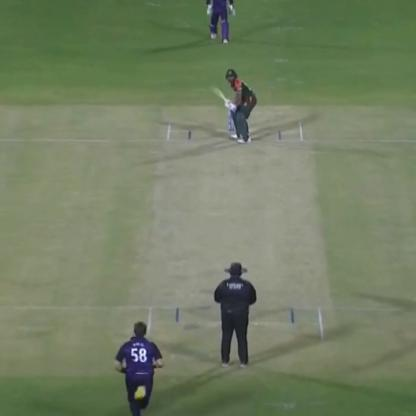bat: (203, 84, 237, 112)
pitch: (150, 124, 330, 345)
